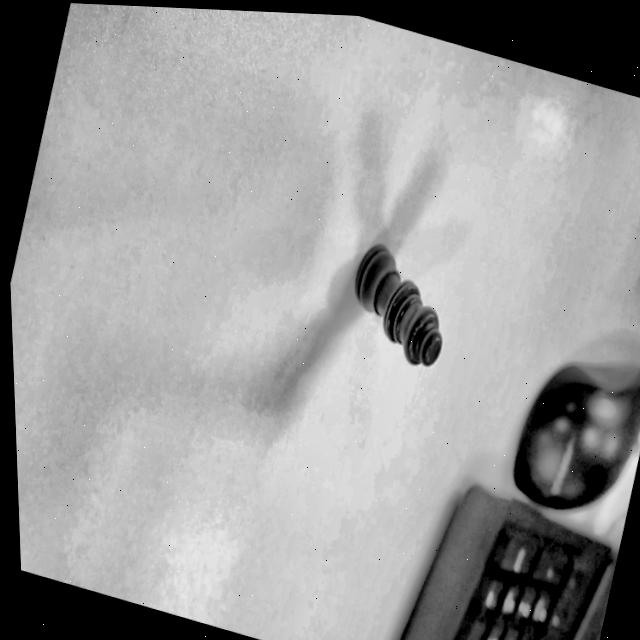black-queen: (319, 224, 477, 393)
